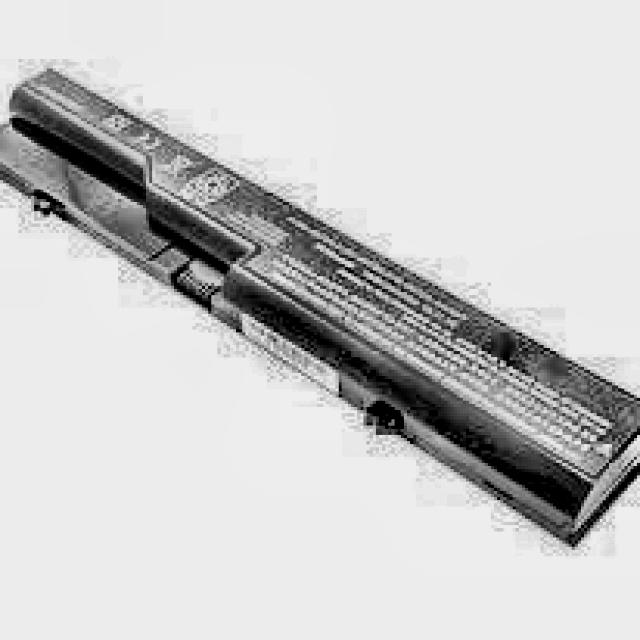Battery: (0, 74, 640, 544)
